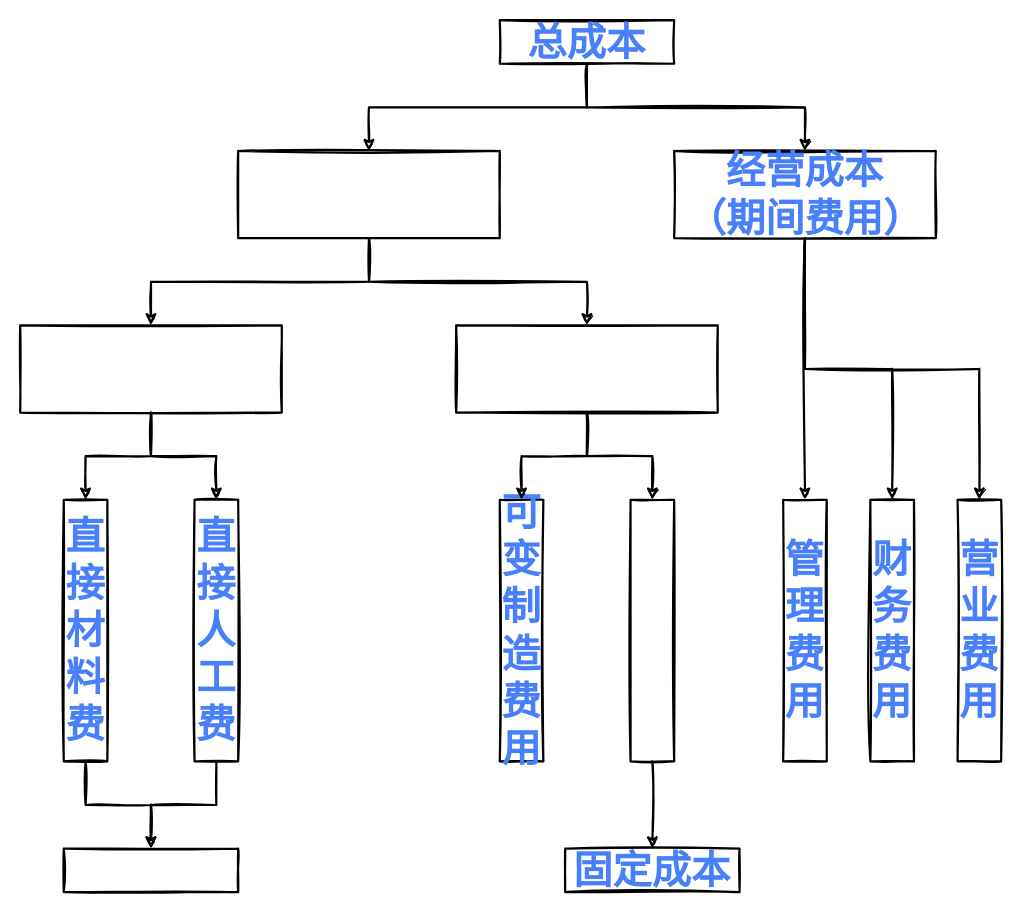
Some shapes in this 1020 by 912 pixel diagram are drawn without their labels. Here are the shapes that lost their labels. From the top down, the box of each, then its label:
(237, 149, 500, 239): 产品成本 （生产成本）
(19, 324, 282, 413): 直接成本 （生产成本）
(455, 324, 718, 413): 间接成本 （制造成本）
(629, 498, 675, 762): 固定制造费用
(62, 847, 239, 893): 变动成本
